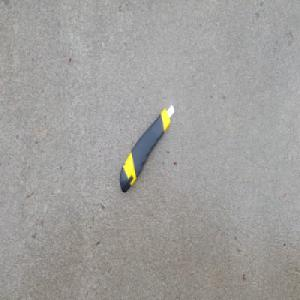Cutter: (118, 102, 176, 195)
